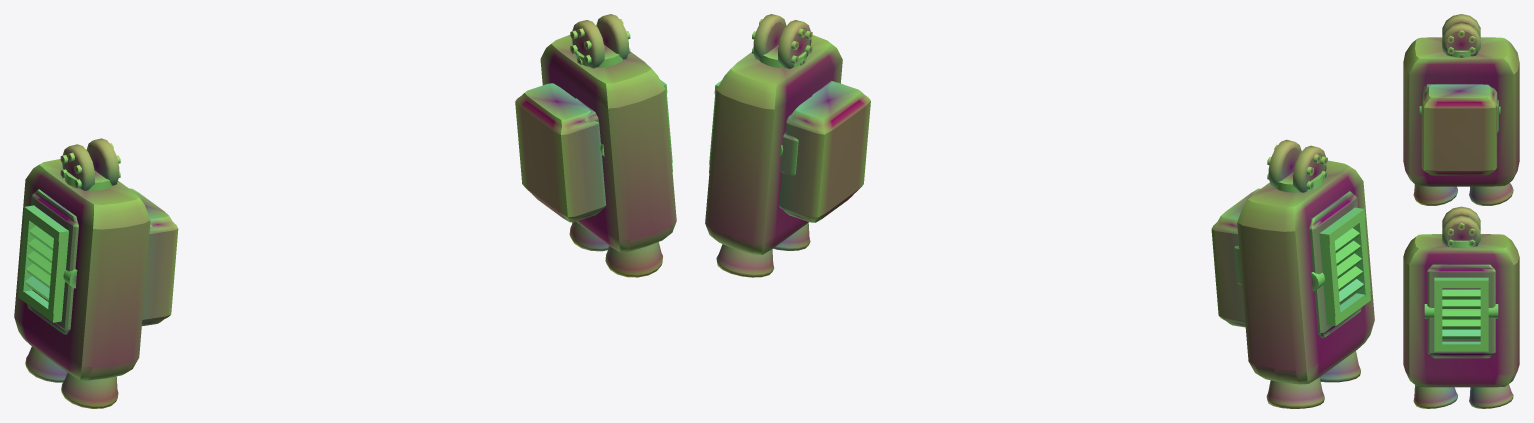
File: llm_gen_leg_thrusters_069_3b4b9b.glb
3 views of the same model, side by side, from view 1: azimuth 30°, elevation 25°; view 2: azimuth 150°, elevation 25°; view 3: azimuth 270°, elevation 25° (orthographic). The views are drawn at different scales.
Visible parts, largest first — view 1: flare_cowling_main_0_titanium_silver_l, flare_cowling_main_0_titanium_silver_r, adapter_calf_clamp_r, adapter_calf_clamp_l, adapter_sub_flare_louver_gold_3_dark_l, adapter_sub_louver_frame_dark_1_adapter_dark_l, servo_5_servo_accent_r, servo_5_servo_accent_l, flare_bell_fwd_6_vernier_bell_vernier_l, flare_bell_fwd_6_vernier_bell_vernier_r, flare_louver_gold_3_gold_l, flare_bell_aft_7_vernier_bell_vernier_l (+1 smaller); view 2: flare_cowling_main_0_titanium_silver_l, flare_cowling_main_0_titanium_silver_r, adapter_calf_clamp_r, adapter_sub_flare_louver_gold_3_dark_l, adapter_calf_clamp_l, adapter_sub_louver_frame_dark_1_adapter_dark_l, servo_5_servo_accent_r, servo_5_servo_accent_l, flare_louver_gold_3_gold_l, flare_bell_aft_7_vernier_bell_vernier_l, flare_bell_aft_7_vernier_bell_vernier_r, flare_bell_fwd_6_vernier_bell_vernier_l (+1 smaller); view 3: flare_cowling_main_0_titanium_silver_r, flare_cowling_main_0_titanium_silver_l, adapter_calf_clamp_l, adapter_sub_louver_frame_dark_1_adapter_dark_r, adapter_sub_flare_louver_gold_3_dark_r, flare_louver_gold_3_gold_r, servo_5_servo_accent_l, servo_5_servo_accent_r, flare_bell_aft_7_vernier_bell_vernier_r, flare_bell_fwd_6_vernier_bell_vernier_r, flare_bell_aft_7_vernier_bell_vernier_l, flare_bell_fwd_6_vernier_bell_vernier_l (+5 smaller).
Part boxes in pixels (bbox=[...]): flare_cowling_main_0_titanium_silver_l: bbox=[14, 159, 150, 380]; flare_cowling_main_0_titanium_silver_r: bbox=[540, 35, 676, 252]; adapter_calf_clamp_r: bbox=[515, 83, 606, 222]; adapter_calf_clamp_l: bbox=[129, 188, 178, 326]; adapter_sub_flare_louver_gold_3_dark_l: bbox=[18, 205, 68, 322]; adapter_sub_louver_frame_dark_1_adapter_dark_l: bbox=[27, 189, 78, 334]; servo_5_servo_accent_r: bbox=[571, 14, 628, 68]; servo_5_servo_accent_l: bbox=[62, 138, 119, 190]; flare_bell_fwd_6_vernier_bell_vernier_l: bbox=[61, 372, 118, 408]; flare_bell_fwd_6_vernier_bell_vernier_r: bbox=[605, 242, 662, 277]; flare_louver_gold_3_gold_l: bbox=[25, 225, 53, 301]; flare_bell_aft_7_vernier_bell_vernier_l: bbox=[25, 346, 67, 382]; flare_cowling_main_0_titanium_silver_l: bbox=[1237, 160, 1374, 384]; flare_cowling_main_0_titanium_silver_r: bbox=[705, 35, 842, 254]; adapter_calf_clamp_r: bbox=[779, 82, 870, 222]; adapter_sub_flare_louver_gold_3_dark_l: bbox=[1319, 207, 1370, 326]; adapter_calf_clamp_l: bbox=[1211, 188, 1260, 327]; adapter_sub_louver_frame_dark_1_adapter_dark_l: bbox=[1309, 191, 1361, 338]; servo_5_servo_accent_r: bbox=[753, 14, 811, 68]; servo_5_servo_accent_l: bbox=[1268, 139, 1326, 192]; flare_louver_gold_3_gold_l: bbox=[1334, 228, 1363, 304]; flare_bell_aft_7_vernier_bell_vernier_l: bbox=[1266, 377, 1324, 408]; flare_bell_aft_7_vernier_bell_vernier_r: bbox=[716, 244, 774, 277]; flare_bell_fwd_6_vernier_bell_vernier_l: bbox=[1320, 351, 1360, 382]; flare_cowling_main_0_titanium_silver_r: bbox=[1403, 234, 1519, 387]; flare_cowling_main_0_titanium_silver_l: bbox=[1403, 37, 1519, 186]; adapter_calf_clamp_l: bbox=[1421, 84, 1497, 175]; adapter_sub_louver_frame_dark_1_adapter_dark_r: bbox=[1427, 264, 1495, 358]; adapter_sub_flare_louver_gold_3_dark_r: bbox=[1434, 277, 1488, 351]; flare_louver_gold_3_gold_r: bbox=[1442, 289, 1480, 338]; servo_5_servo_accent_l: bbox=[1442, 14, 1480, 56]; servo_5_servo_accent_r: bbox=[1442, 206, 1480, 246]; flare_bell_aft_7_vernier_bell_vernier_r: bbox=[1469, 384, 1513, 408]; flare_bell_fwd_6_vernier_bell_vernier_r: bbox=[1413, 385, 1457, 408]; flare_bell_aft_7_vernier_bell_vernier_l: bbox=[1469, 183, 1513, 205]; flare_bell_fwd_6_vernier_bell_vernier_l: bbox=[1413, 184, 1457, 205].
Size of the model in its own units: 80.8 by 29.72 by 16.92.
